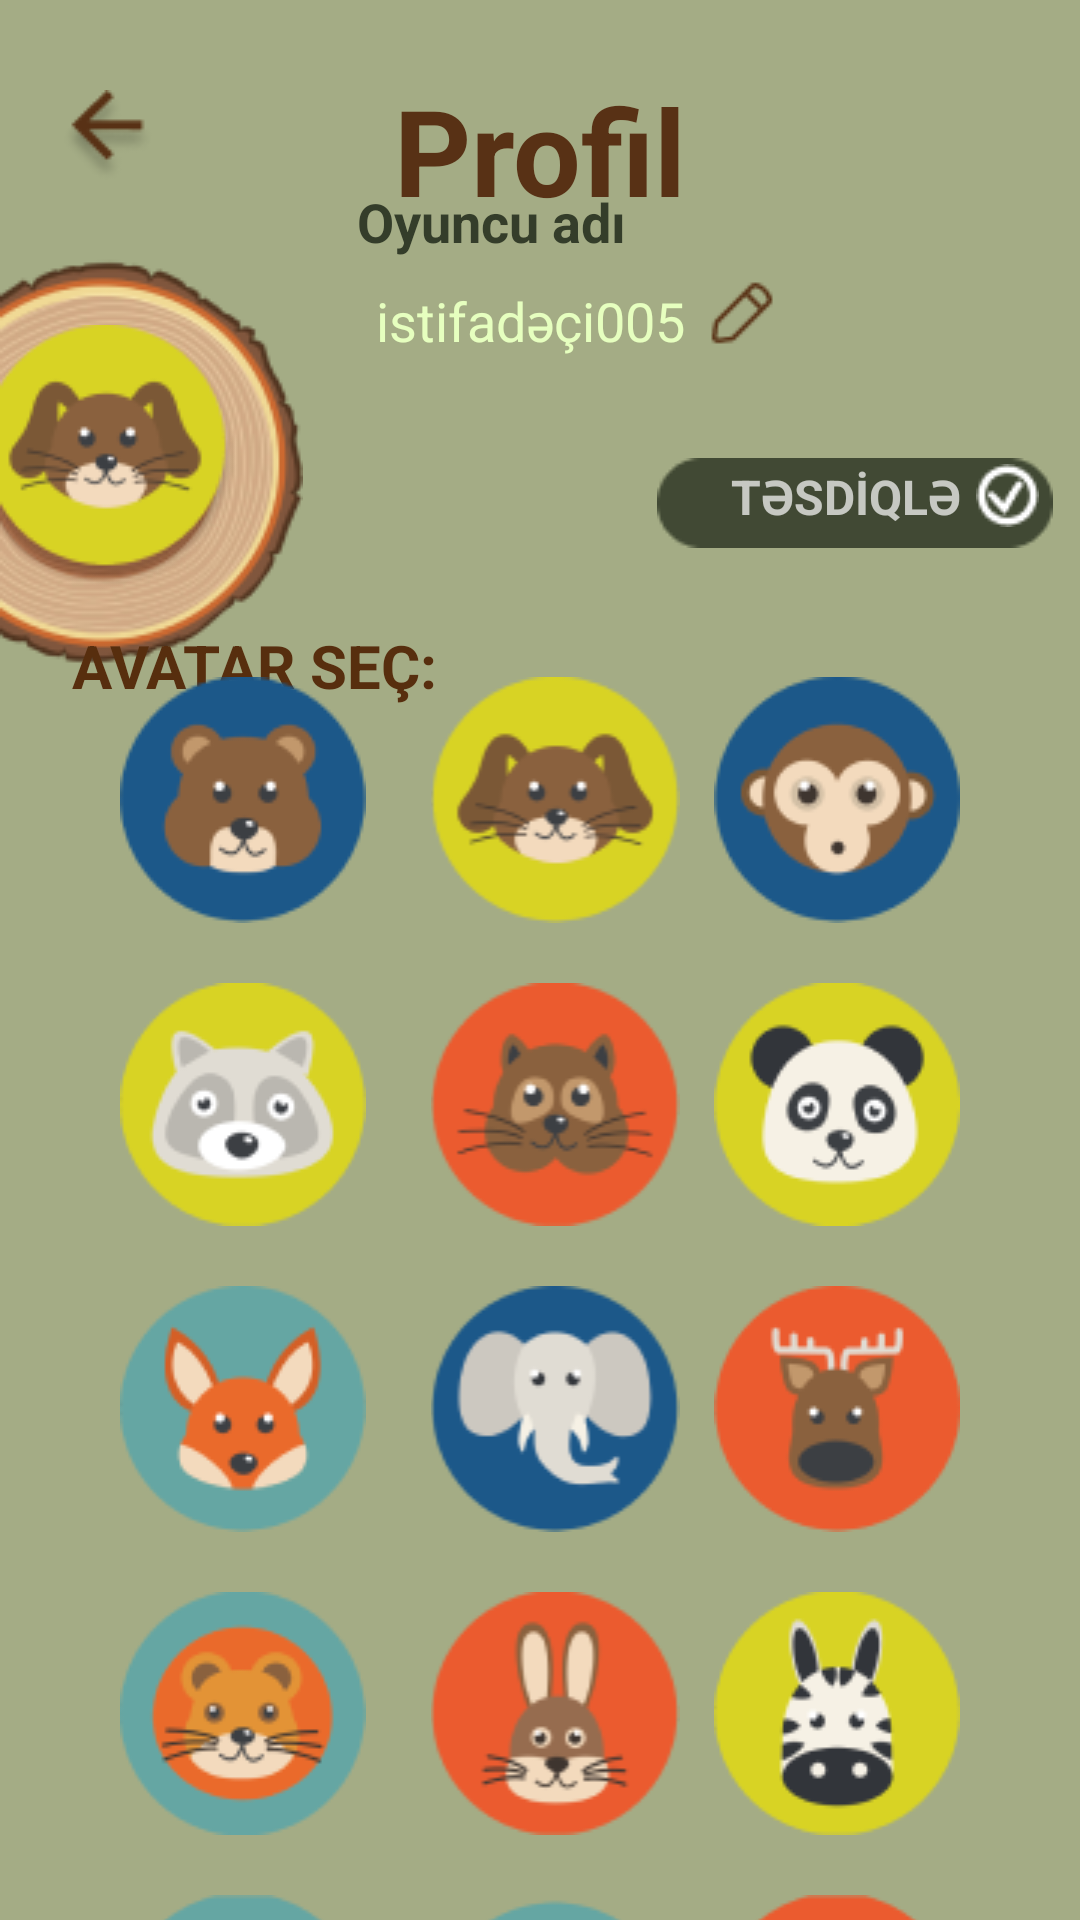

Icons on this 1080px x 1920px Android screen, each with its box as (x1, y1, x2, y2):
arrow: (71, 90, 144, 161)
ayi: (120, 677, 366, 923)
dovsan: (431, 1592, 678, 1835)
fil: (431, 1286, 680, 1532)
maral: (714, 1286, 960, 1532)
meymun: (714, 677, 960, 923)
panda: (714, 983, 960, 1226)
peleng: (120, 1592, 366, 1835)
pen: (711, 282, 773, 344)
sincab: (431, 983, 678, 1226)
tulku: (120, 1286, 366, 1532)
zebra: (714, 1592, 960, 1835)
